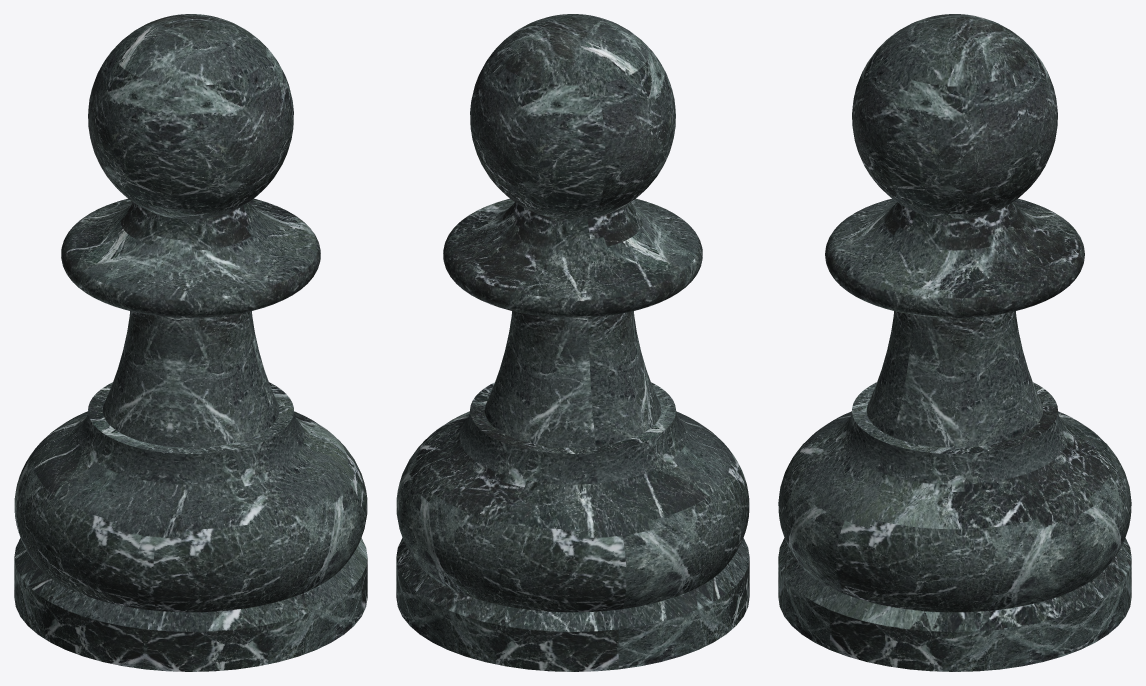
Rendered from Black-Pawn.glb.
3 renders of one model, left to right at view 1: azimuth 30°, elevation 25°; view 2: azimuth 150°, elevation 25°; view 3: azimuth 270°, elevation 25°, orthographic.
Visible parts, largest first — view 1: ASSET_Joined; view 2: ASSET_Joined; view 3: ASSET_Joined.
Boxes of the visible parts, bbox=[...] form: ASSET_Joined: bbox=[14, 14, 367, 671]; ASSET_Joined: bbox=[396, 14, 749, 671]; ASSET_Joined: bbox=[778, 14, 1131, 671].
Size of the model in its own units: 33.49 by 60 by 33.49.
Materials: 1 (1 with a texture image).
